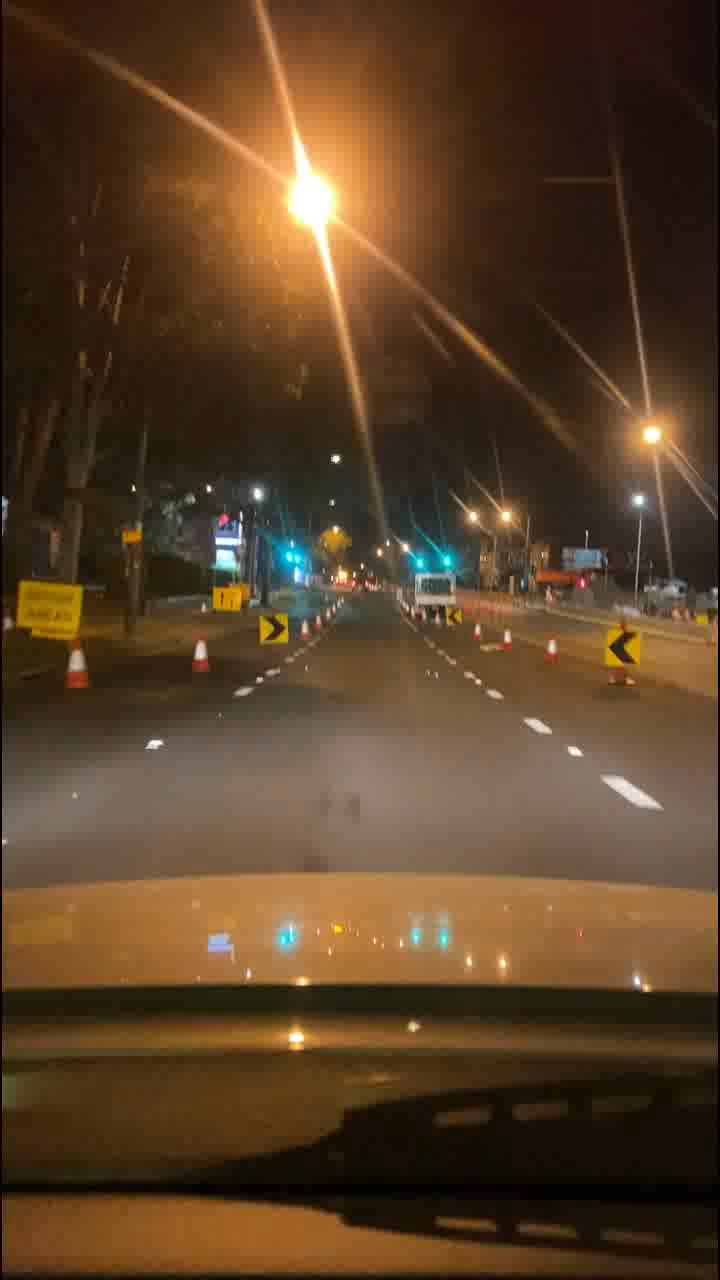road cone: (191, 630, 214, 682), (60, 634, 83, 686), (539, 626, 562, 678), (495, 611, 518, 663), (466, 611, 489, 663), (303, 600, 324, 642), (330, 587, 347, 625)
road works sign board: (12, 577, 81, 638), (597, 623, 645, 682), (202, 579, 254, 615), (260, 606, 291, 655)
truck: (402, 561, 454, 629)
